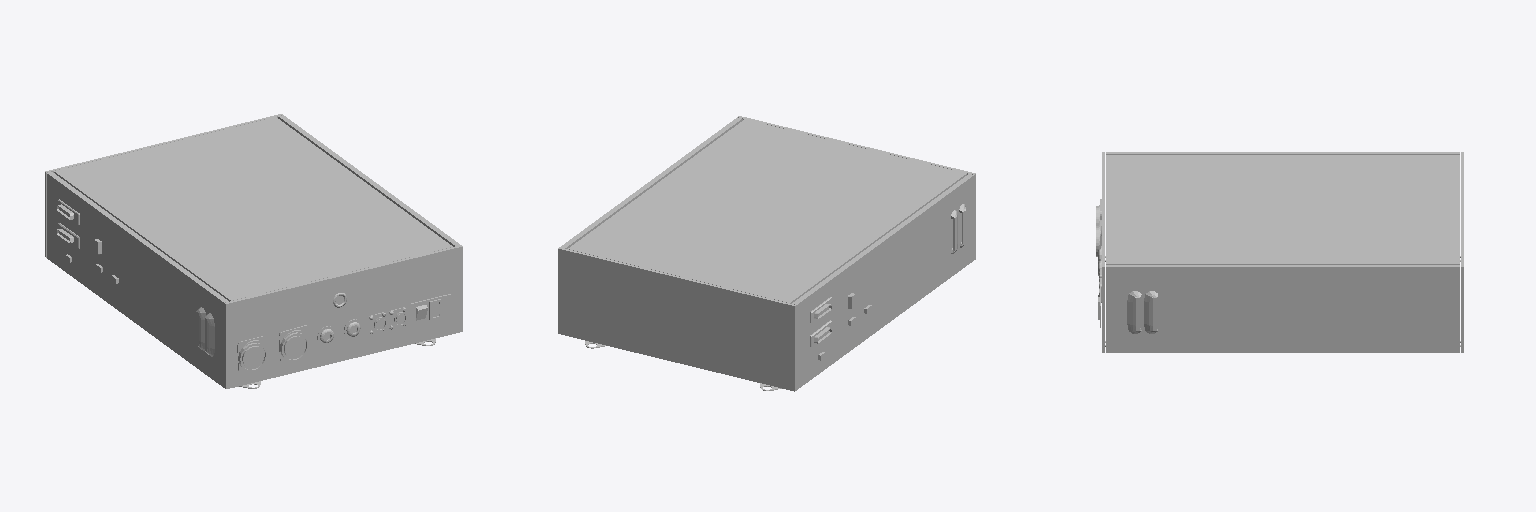
File: DAU_RealScale.obj
3 renders of one model, left to right at view 1: azimuth 30°, elevation 25°; view 2: azimuth 150°, elevation 25°; view 3: azimuth 270°, elevation 25°, orthographic.
Visible parts, largest first — view 1: DAU_Cube.010; view 2: DAU_Cube.010; view 3: DAU_Cube.010.
Part boxes in pixels (x1,y1,x2,y2): DAU_Cube.010: (45, 114, 462, 388); DAU_Cube.010: (558, 116, 975, 391); DAU_Cube.010: (1096, 152, 1463, 352).
Bounding box in the file's own units: 0.5487 × 0.1939 × 0.7014.